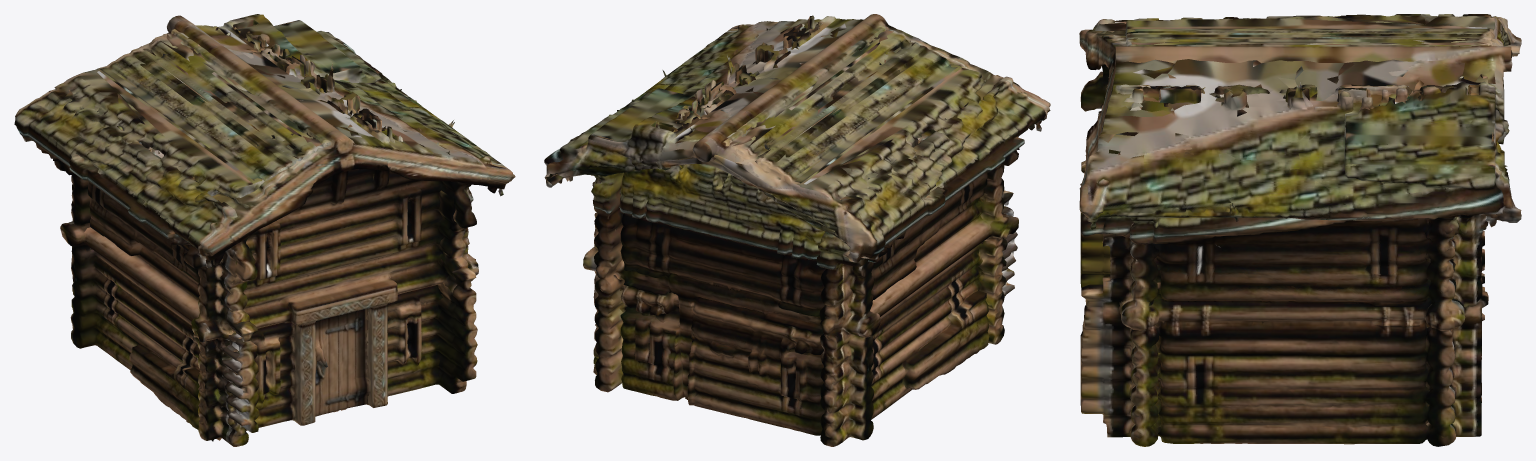
Rendered from outpost_cabin.glb.
The picture shows the model from 3 angles, left to right: view 1: azimuth 30°, elevation 25°; view 2: azimuth 150°, elevation 25°; view 3: azimuth 270°, elevation 25°; orthographic projection. The views are drawn at different scales.
Parts seen in each view (by area): view 1: geometry_0; view 2: geometry_0; view 3: geometry_0.
Part boxes in pixels (x1,y1,x2,y2): geometry_0: (14, 14, 515, 446); geometry_0: (544, 14, 1050, 446); geometry_0: (1079, 14, 1521, 446).
Bounding box in the file's own units: 2.12 × 1.75 × 2.13.
Materials: 1 (1 with a texture image).
